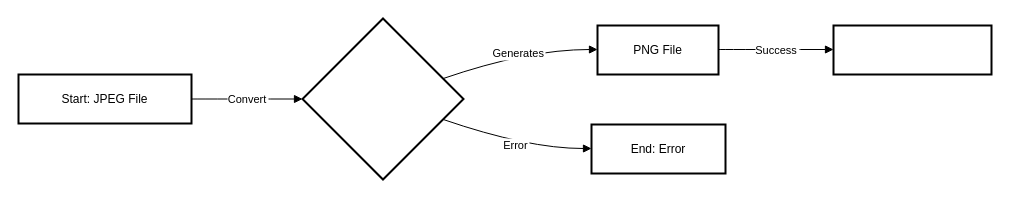
Image size: 1009x197. Some labels were removed from this diagram. The shapes that lost their labels are listed below. From the top down, each one's box as (x1, y1, x2, y2) in pixels, then its label:
(832, 24, 992, 75): End: PNG File
(301, 17, 464, 180): Conversion Tool
